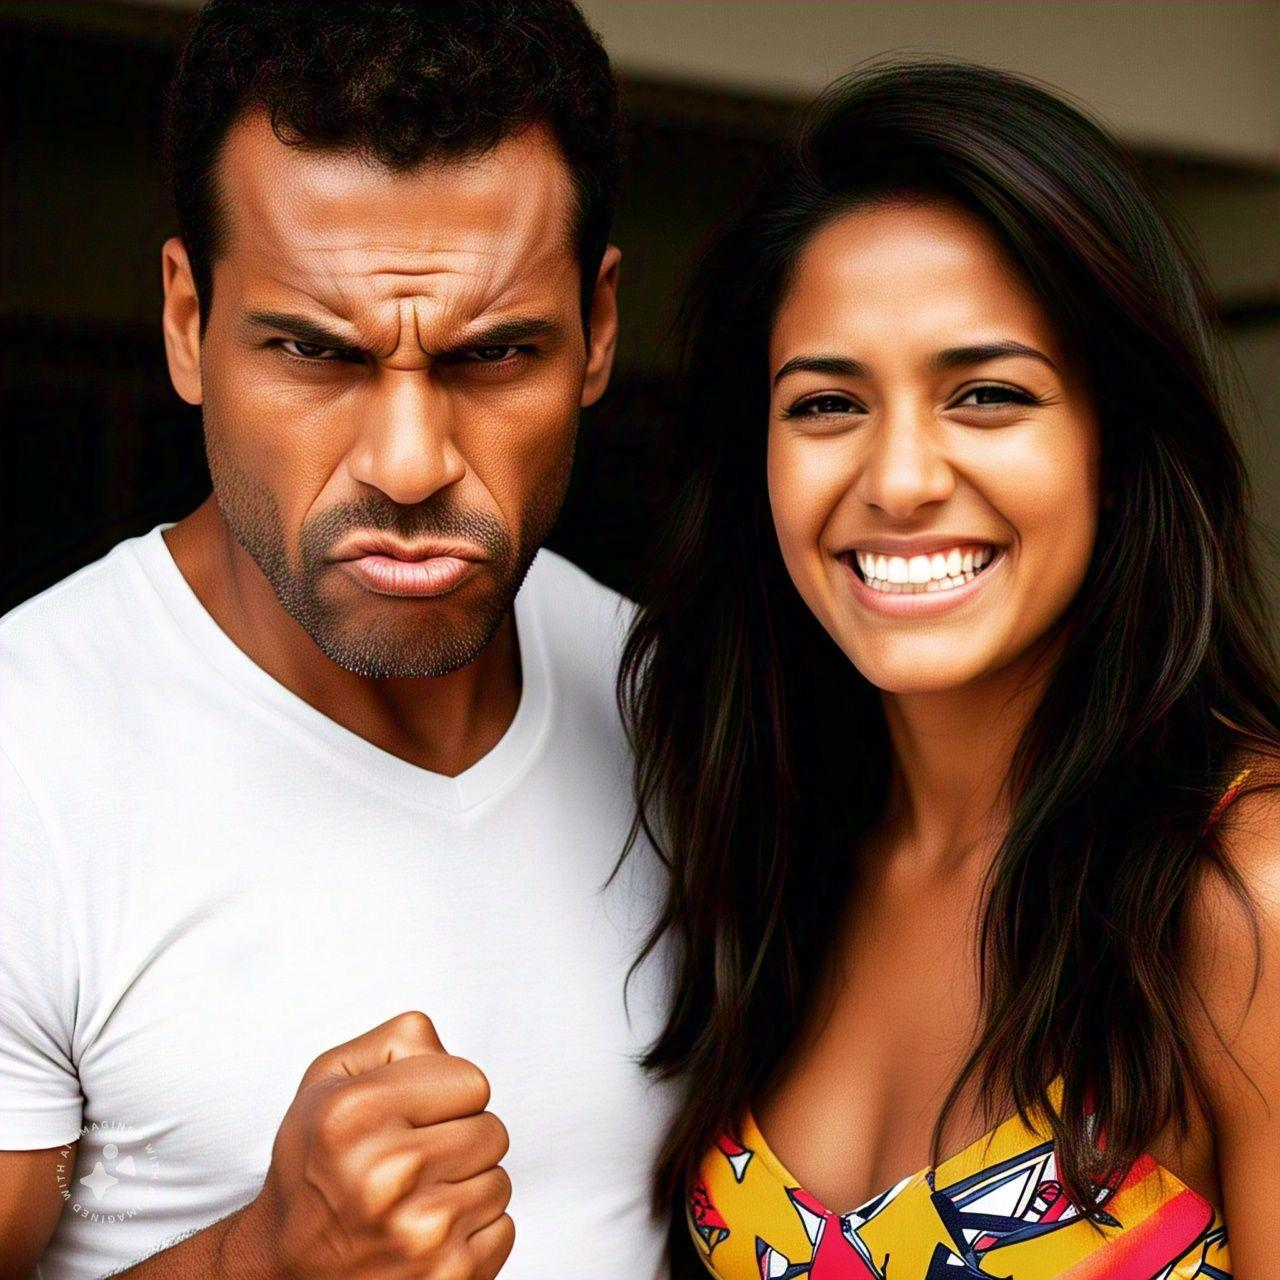feliz: (758, 202, 1107, 734)
raiva: (158, 90, 606, 682)
